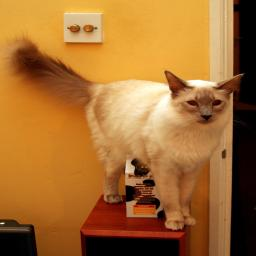catnose: (199, 110, 214, 122)
